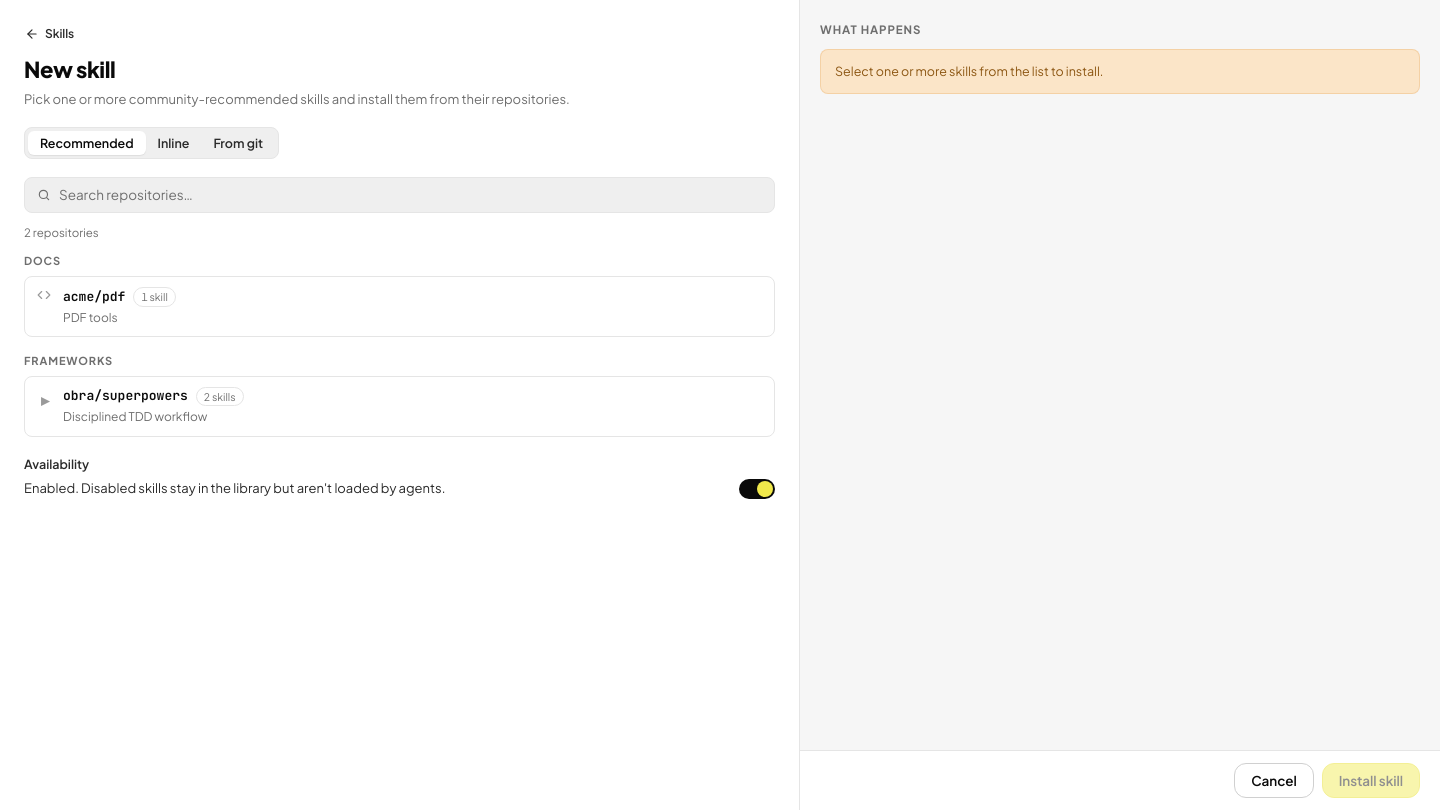
Test: SkillEditor — Recommended tab › filters repositories by search
The width and height of the screenshot is (1440, 810).
Click the button "Recommended".
click(87, 143)  # box [28, 131, 146, 155]
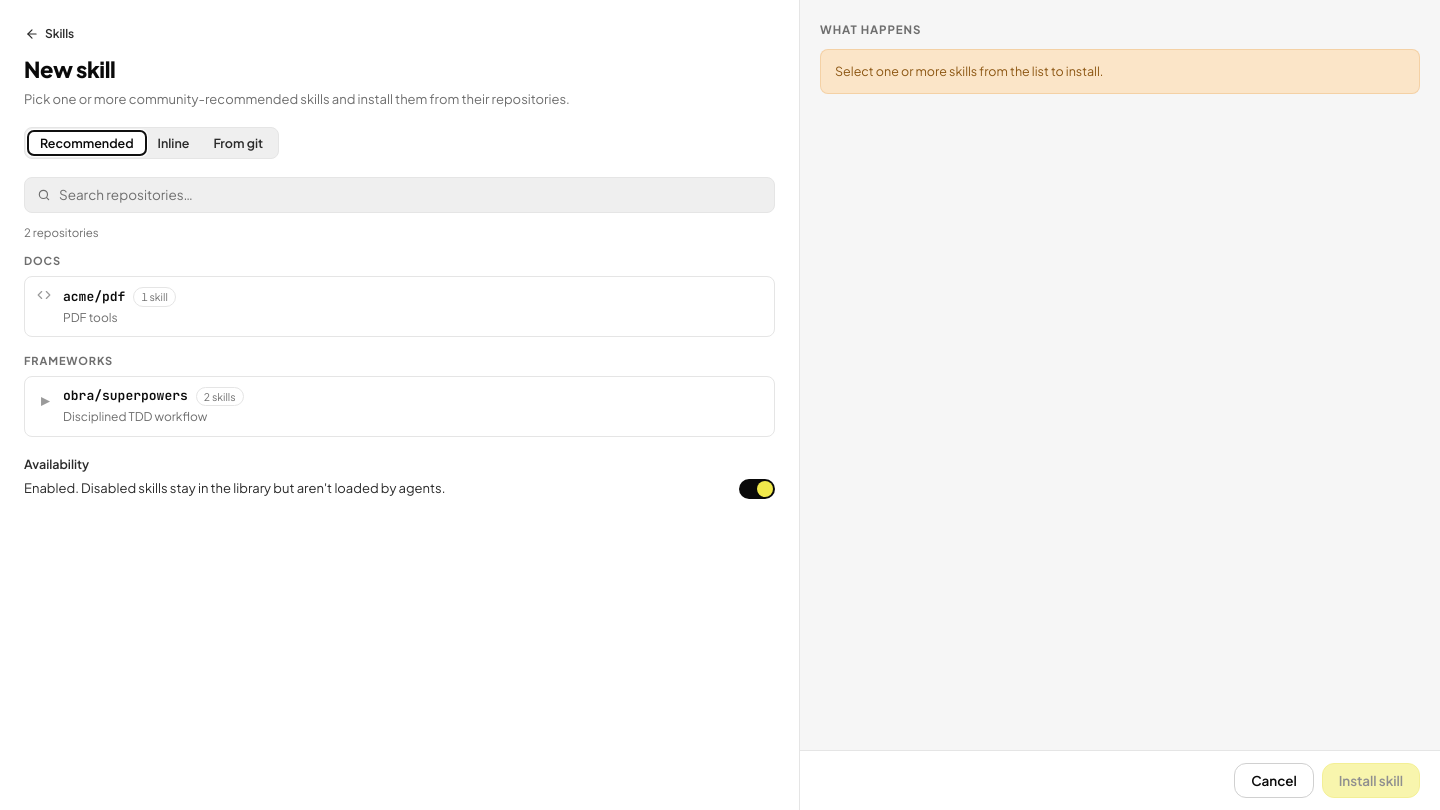
expect the button "acme/pdf 1 skill PDF tools" is shown: met, box [24, 276, 775, 337]
Type "acme" into the field named "Search recommended skills".
click(410, 195); type("acme")  # box [59, 185, 762, 205]
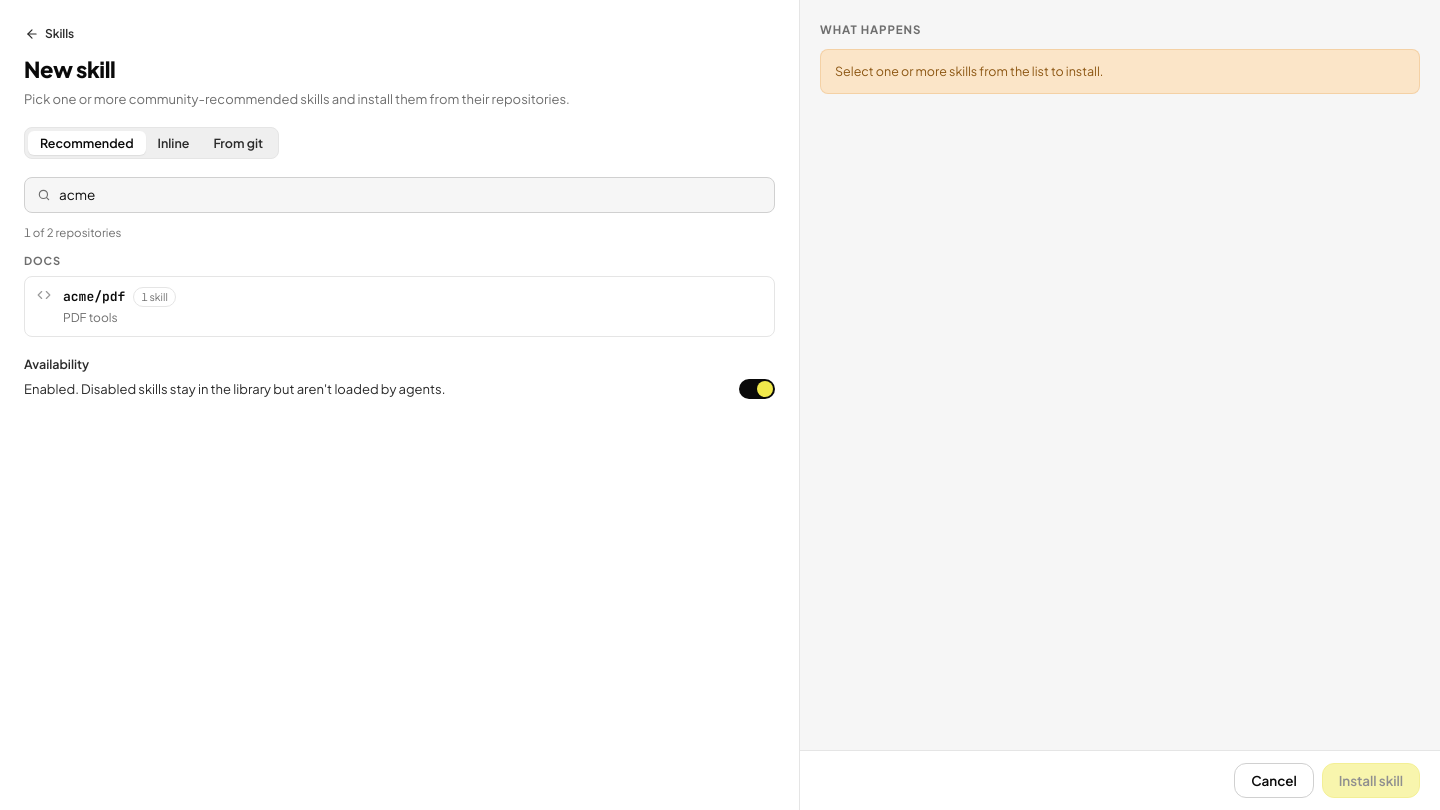
expect the button "acme/pdf 1 skill PDF tools" is shown: met, box [24, 276, 775, 337]
expect the button "obra/superpowers" is gone: met
